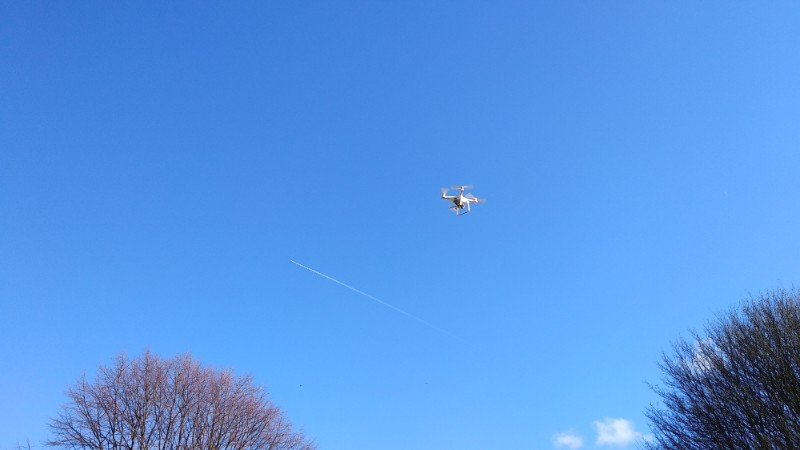drone: (440, 183, 488, 218)
